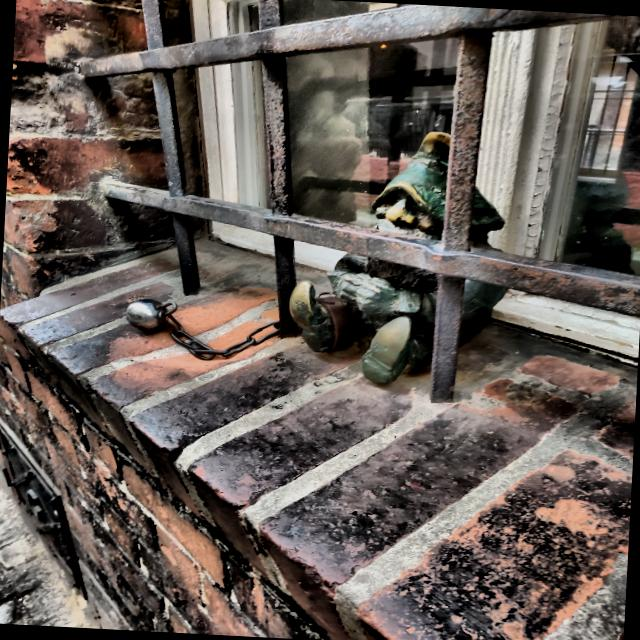Wiezien: (289, 254, 437, 385), (126, 299, 279, 359), (373, 132, 450, 239), (459, 280, 507, 343), (471, 192, 504, 247)
